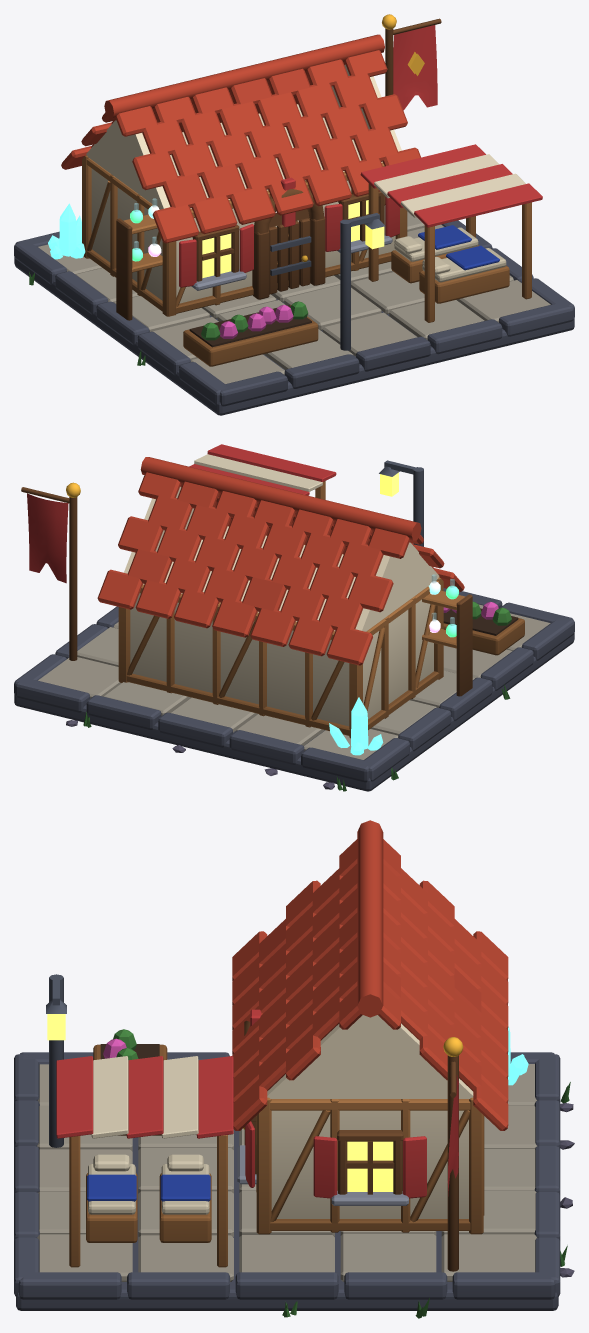
Rendered from infirmary.glb.
3 views of the same model, one above another, from view 1: azimuth 30°, elevation 25°; view 2: azimuth 150°, elevation 25°; view 3: azimuth 270°, elevation 25° (orthographic). The views are drawn at different scales.
Visible parts, largest first — view 1: t0_roof_red, t0_stone_dark, t0_marble, t0_wood, t0_cloth_red, t0_wood_dark, t0_plaster, t0_cloth_cream, t2_cloth_red, t1_iron, t0_cloth_blue, t3_crystal_teal (+7 smaller); view 2: t0_roof_red, t0_stone_dark, t0_plaster, t0_wood, t0_marble, t2_cloth_red, t0_cloth_red, t2_wood_dark, t0_cloth_cream, t0_wood_dark, t3_crystal_teal, t1_iron (+2 smaller); view 3: t0_roof_red, t0_marble, t0_stone_dark, t0_plaster, t0_wood, t0_cloth_red, t0_cloth_cream, t0_wood_dark, t0_cloth_blue, t2_wood_dark, t0_window, t1_iron (+3 smaller).
Part boxes in pixels (x1,y1,x2,y2): t0_roof_red: (61, 34, 420, 243); t0_stone_dark: (14, 220, 574, 415); t0_marble: (38, 211, 550, 383); t0_wood: (82, 104, 531, 366); t0_cloth_red: (179, 144, 542, 287); t0_wood_dark: (116, 188, 384, 320); t0_plaster: (86, 64, 401, 303); t0_cloth_cream: (374, 154, 525, 282); t2_cloth_red: (393, 25, 437, 110); t1_iron: (340, 213, 385, 350); t0_cloth_blue: (418, 225, 499, 270); t3_crystal_teal: (48, 203, 85, 259); t0_roof_red: (97, 457, 464, 665); t0_stone_dark: (14, 588, 574, 791); t0_plaster: (124, 486, 439, 726); t0_wood: (118, 481, 524, 738); t0_marble: (38, 604, 550, 759); t2_cloth_red: (27, 493, 68, 583); t0_cloth_red: (189, 444, 336, 495); t2_wood_dark: (21, 487, 77, 660); t0_cloth_cream: (194, 454, 322, 491); t0_wood_dark: (456, 594, 472, 696); t3_crystal_teal: (329, 697, 383, 755); t1_iron: (379, 460, 423, 546); t0_roof_red: (232, 820, 508, 1130); t0_marble: (37, 1064, 537, 1281); t0_stone_dark: (14, 1052, 560, 1310); t0_plaster: (267, 1015, 473, 1218); t0_wood: (69, 1044, 484, 1267); t0_cloth_red: (56, 1009, 426, 1198); t0_cloth_cream: (88, 1056, 209, 1214); t0_wood_dark: (244, 1020, 403, 1194); t0_cloth_blue: (87, 1174, 210, 1201); t2_wood_dark: (447, 1055, 458, 1271); t0_window: (347, 1141, 393, 1191); t1_iron: (46, 974, 66, 1147).
Size of the model in its own units: 3.26 by 1.69 by 3.04.
